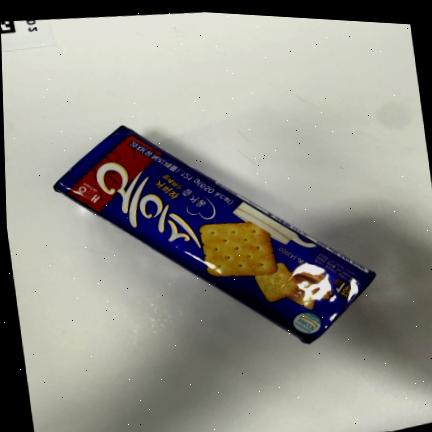cracker_ace: (54, 126, 375, 343)
